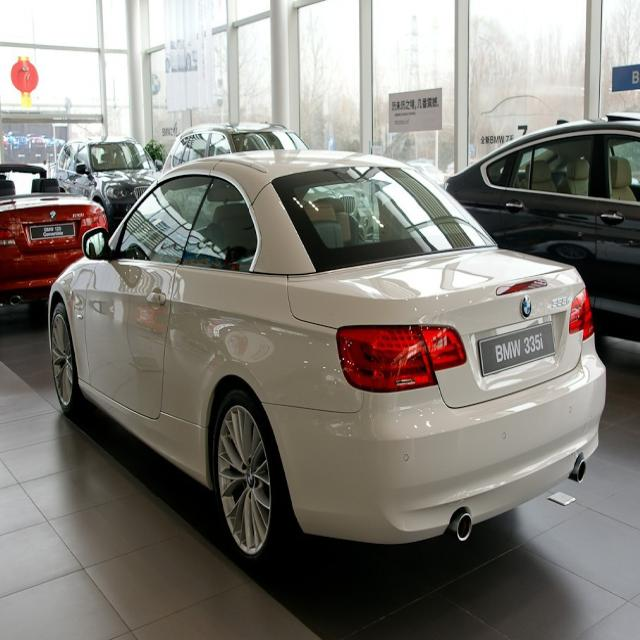back_glass: (271, 163, 499, 277)
back_left_side_light: (331, 320, 468, 395)
back_right_side_light: (560, 288, 597, 342)
front_left_side_door: (82, 160, 216, 424)
front_left_side_light: (82, 226, 112, 268)
rear_bumper: (252, 328, 609, 547)
wheel: (213, 396, 301, 570), (50, 301, 93, 420)
